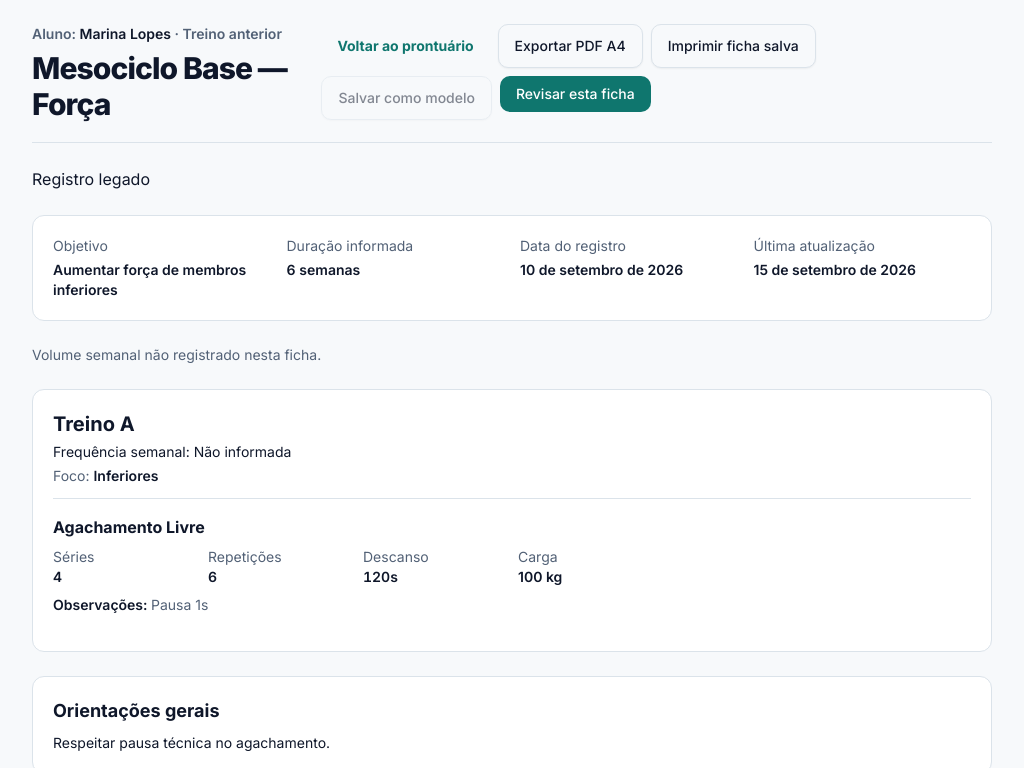
Scenario: exports typographic A4 PDF in Modo Ficha de Academia and Planilha do Bloco and handles blocked popups
The image size is (1024, 768).
Later steps or results of the test are not shown.
Click the button "Exportar PDF A4" at (570, 46), box [498, 24, 643, 68]
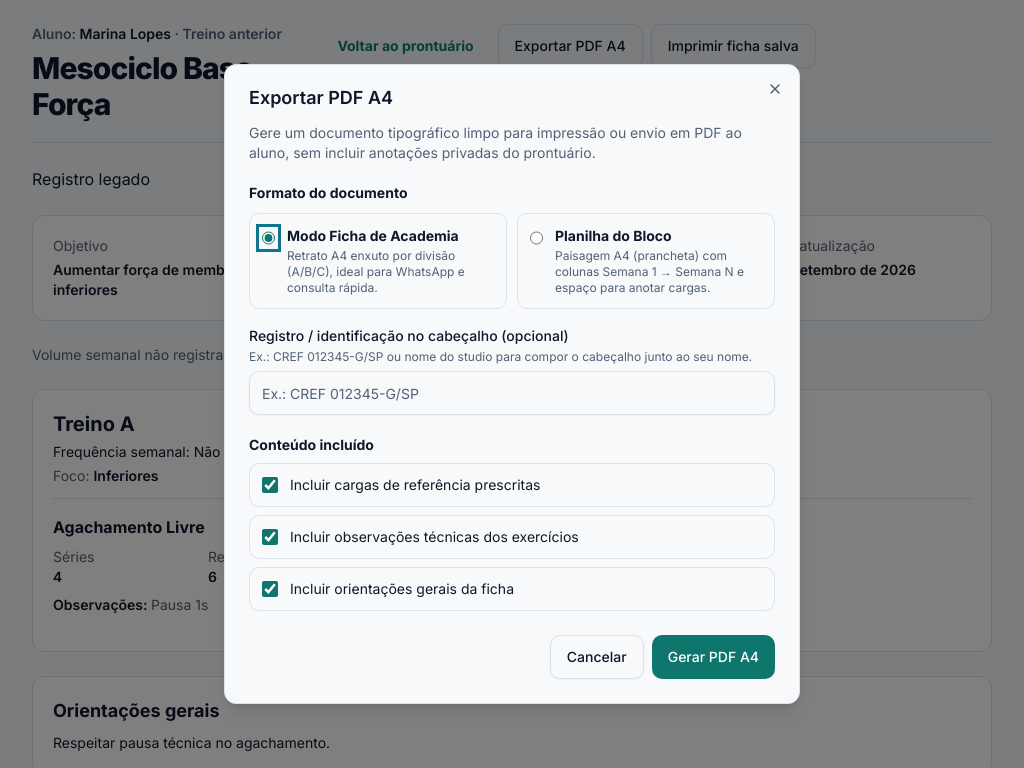
Type "CREF 099999-G/SP" into the field labelled "Registro / identificação no cabeçalho (opcional)" at (512, 393), box [249, 371, 775, 415]
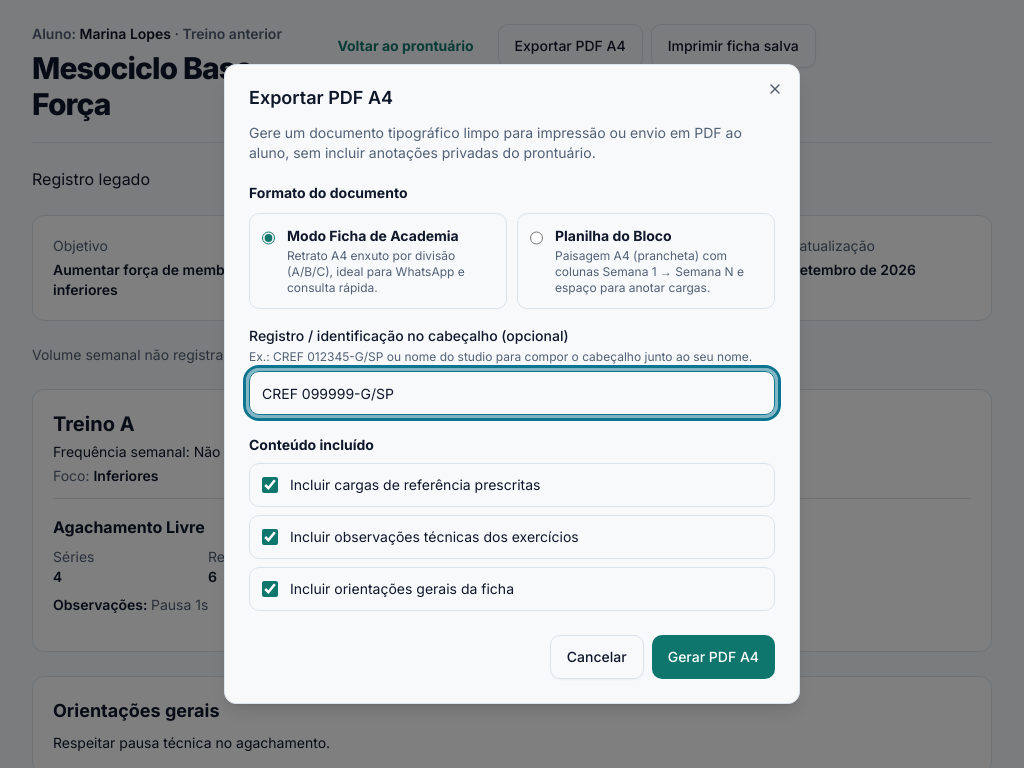
Click the button "Gerar PDF A4" at (713, 657), box [652, 635, 775, 679]
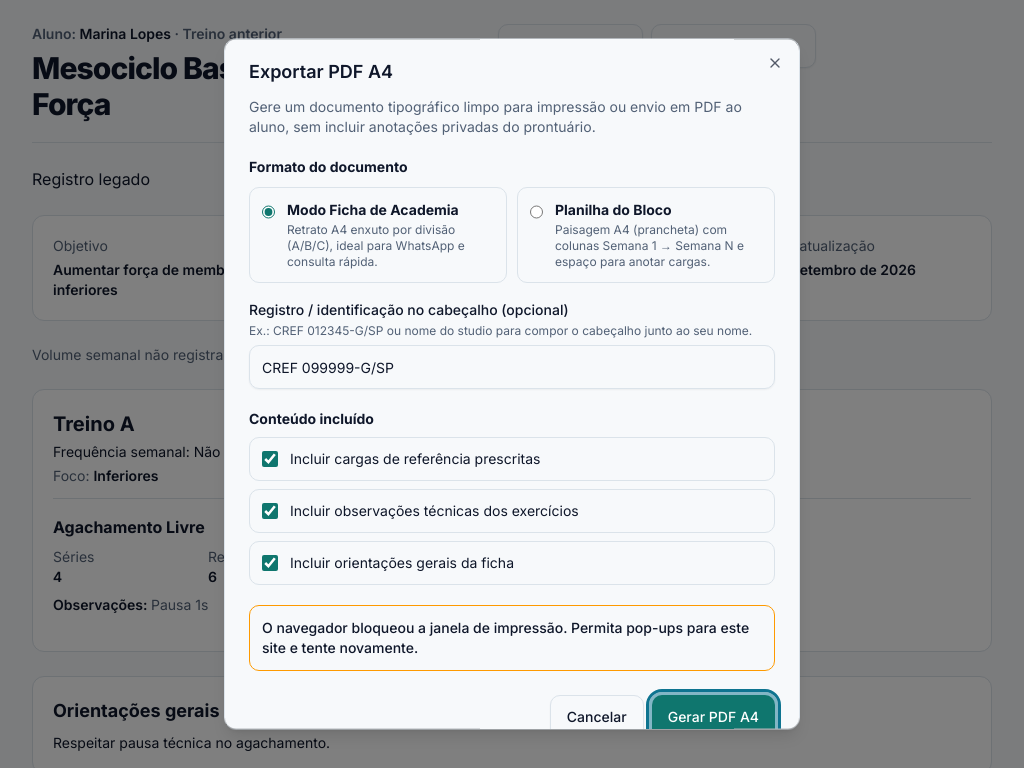
Result: the message shows "bloqueou a janela de impressão" at [262, 619, 749, 656]
